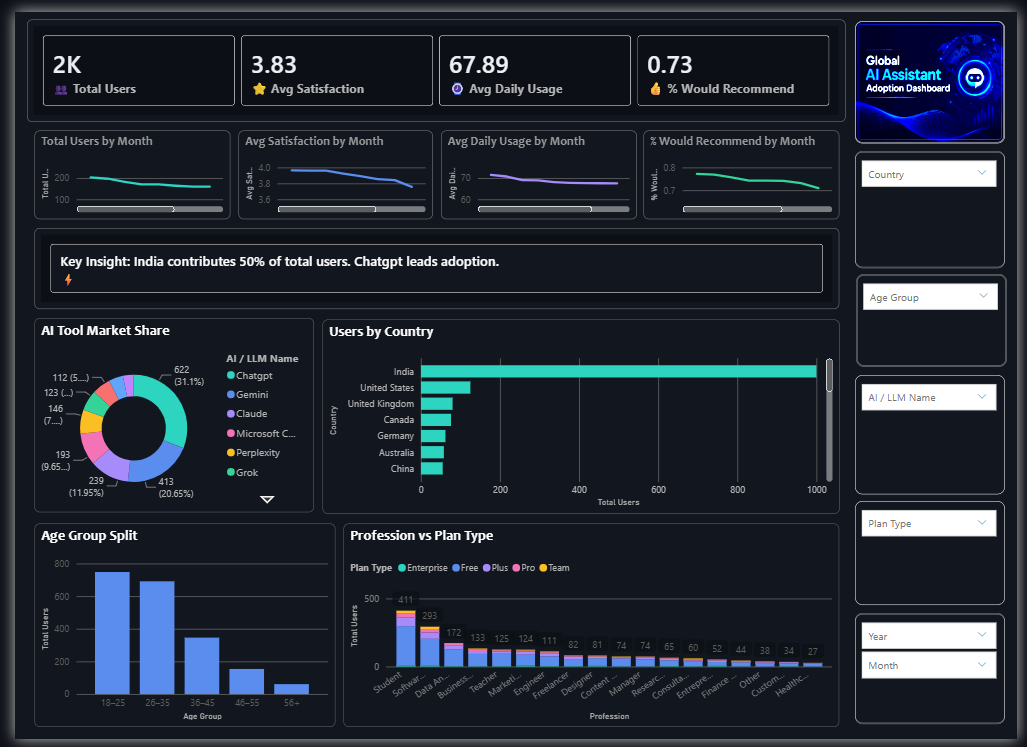

This screenshot's page, from the dashboard's own definition file:
{"tool":"powerbi","page":{"name":"Overview","canvas":[1310,950],"ordinal":0},"visuals":[{"type":"cardVisual","fields":{"Data":["Dax Measures.Total Users","Dax Measures.Avg Satisfaction","Dax Measures.Avg Daily Usage","Dax Measures.% Would Recommend"]},"box":[16,10,1070,134],"z":0},{"type":"lineChart","fields":{"Category":["llm ready_llm_table.Month"],"Y":["Dax Measures.Total Users"]},"box":[26,154,256,116],"z":1000},{"type":"lineChart","fields":{"Category":["llm ready_llm_table.Month"],"Y":["Dax Measures.Avg Satisfaction"]},"box":[292,154,254,116],"z":2000},{"type":"lineChart","fields":{"Category":["llm ready_llm_table.Month"],"Y":["Dax Measures.Avg Daily Usage"]},"box":[556,154,256,116],"z":3000},{"type":"lineChart","fields":{"Category":["llm ready_llm_table.Month"],"Y":["Dax Measures.% Would Recommend"]},"box":[822,154,256,116],"z":4000},{"type":"cardVisual","fields":{"Data":["Dax Measures.Insight Page1"]},"box":[26,282,1052,106],"z":5000},{"type":"donutChart","title":"AI Tool Market Share","fields":{"Category":["llm ready_llm_table.AI / LLM Name"],"Y":["Dax Measures.Total Users"]},"box":[26,400,365,254],"z":6000},{"type":"clusteredBarChart","title":"Users by Country","fields":{"Category":["llm ready_llm_table.Country"],"Y":["Dax Measures.Total Users"]},"box":[402,402,676,254],"z":7000},{"type":"lineClusteredColumnComboChart","title":"Age Group Split","fields":{"Category":["llm ready_llm_table.Age Group"],"Y":["Dax Measures.Total Users"]},"box":[26,668,393,266],"z":8000},{"type":"lineStackedColumnComboChart","title":"Profession vs Plan Type","fields":{"Category":["llm ready_llm_table.Profession"],"Series":["llm ready_llm_table.Plan Type"],"Y":["Dax Measures.Total Users"]},"box":[430,668,648,266],"z":9000},{"type":"SmartFilterBySQLBI1458262140625","fields":{"Values":["llm ready_llm_table.Country"]},"box":[1098,182,196,152],"z":10000},{"type":"SmartFilterBySQLBI1458262140625","fields":{"Values":["llm ready_llm_table.AI / LLM Name"]},"box":[1098,474,196,156],"z":11000},{"type":"SmartFilterBySQLBI1458262140625","fields":{"Values":["llm ready_llm_table.Plan Type"]},"box":[1098,640,196,136],"z":12000},{"type":"SmartFilterBySQLBI1458262140625","fields":{"Values":["llm ready_llm_table.Usage Date.Variation.Date Hierarchy.Year","llm ready_llm_table.Usage Date.Variation.Date Hierarchy.Month"]},"box":[1098,786,196,144],"z":13000},{"type":"SmartFilterBySQLBI1458262140625","fields":{"Values":["llm ready_llm_table.Age Group"]},"box":[1100,344,196,120],"z":14000},{"type":"image","box":[1098,12,196,160],"z":15000}]}

Visuals, with their boxes in screenshot pixels (x1, y1, x2, y2), scaled from the page's 1310x950 canvas onto the 1027x747 screenshot:
cardVisual - Dax Measures.Total Users x Dax Measures.Avg Satisfaction: select_region(13, 8, 851, 113)
lineChart - llm ready_llm_table.Month x Dax Measures.Total Users: select_region(20, 121, 221, 212)
lineChart - llm ready_llm_table.Month x Dax Measures.Avg Satisfaction: select_region(229, 121, 428, 212)
lineChart - llm ready_llm_table.Month x Dax Measures.Avg Daily Usage: select_region(436, 121, 637, 212)
lineChart - llm ready_llm_table.Month x Dax Measures.% Would Recommend: select_region(644, 121, 845, 212)
cardVisual - Dax Measures.Insight Page1: select_region(20, 222, 845, 305)
"AI Tool Market Share" donutChart: select_region(20, 315, 307, 514)
"Users by Country" clusteredBarChart: select_region(315, 316, 845, 516)
"Age Group Split" lineClusteredColumnComboChart: select_region(20, 525, 328, 734)
"Profession vs Plan Type" lineStackedColumnComboChart: select_region(337, 525, 845, 734)
SmartFilterBySQLBI1458262140625 - llm ready_llm_table.Country: select_region(861, 143, 1014, 263)
SmartFilterBySQLBI1458262140625 - llm ready_llm_table.AI / LLM Name: select_region(861, 373, 1014, 495)
SmartFilterBySQLBI1458262140625 - llm ready_llm_table.Plan Type: select_region(861, 503, 1014, 610)
SmartFilterBySQLBI1458262140625 - llm ready_llm_table.Usage Date.Variation.Date Hierarchy.Year x llm ready_llm_table.Usage Date.Variation.Date Hierarchy.Month: select_region(861, 618, 1014, 731)
SmartFilterBySQLBI1458262140625 - llm ready_llm_table.Age Group: select_region(862, 270, 1016, 365)
image: select_region(861, 9, 1014, 135)
